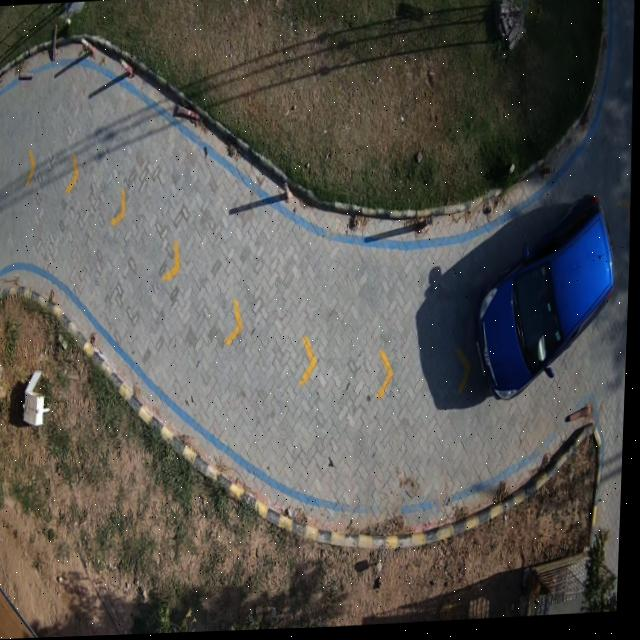car: (478, 198, 616, 405)
